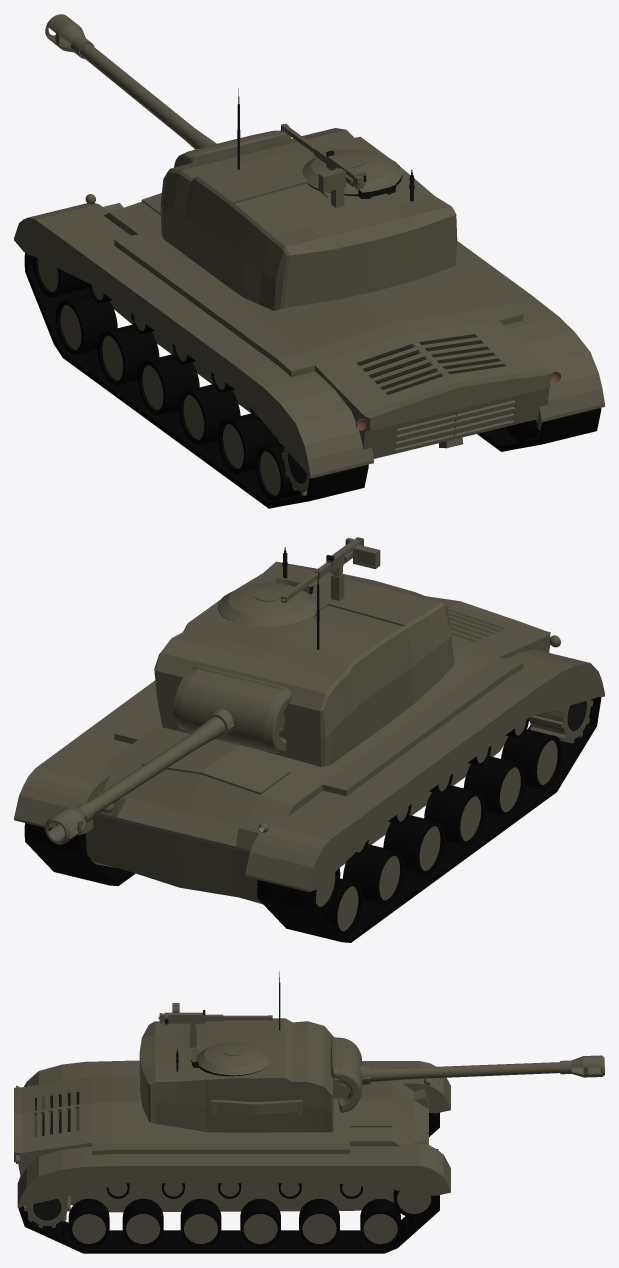
3 renders of one model, top to bottom at view 1: azimuth 30°, elevation 25°; view 2: azimuth 150°, elevation 25°; view 3: azimuth 270°, elevation 25°, orthographic. The views are drawn at different scales.
Parts seen in each view (by area): view 1: body_lower, body_upper, skirt, track, cannon, wheel_6, wheel_4, hatch, wheel_5, wheel_3, wheel_2, wheel_1 (+4 smaller); view 2: body_lower, body_upper, skirt, track, cannon_guard, cannon, hatch, wheel_5, wheel_3, wheel_4, wheel_2, wheel_1 (+4 smaller); view 3: body_lower, skirt, body_upper, track, cannon, hatch, cannon_guard, wheel_1, wheel_3, wheel_2, wheel_4, wheel_5 (+5 smaller).
Boxes of the visible parts, <box> form: body_lower: <box>103,193,550,458</box>; body_upper: <box>160,128,457,310</box>; skirt: <box>14,203,604,478</box>; track: <box>24,253,601,508</box>; cannon: <box>45,14,216,149</box>; wheel_6: <box>55,294,117,354</box>; wheel_4: <box>138,354,199,414</box>; hatch: <box>302,149,402,199</box>; wheel_5: <box>97,324,159,385</box>; wheel_3: <box>178,384,240,444</box>; wheel_2: <box>218,413,279,473</box>; wheel_1: <box>255,420,540,500</box>; body_lower: <box>85,596,550,904</box>; body_upper: <box>154,561,453,766</box>; skirt: <box>14,649,604,891</box>; track: <box>24,697,601,942</box>; cannon_guard: <box>173,666,291,752</box>; cannon: <box>45,708,234,844</box>; hatch: <box>217,577,319,626</box>; wheel_5: <box>343,844,404,905</box>; wheel_3: <box>424,785,485,846</box>; wheel_4: <box>383,815,445,875</box>; wheel_2: <box>463,756,525,817</box>; wheel_1: <box>501,729,562,790</box>; body_lower: <box>14,1067,428,1212</box>; skirt: <box>17,1060,450,1207</box>; body_upper: <box>139,1018,350,1132</box>; track: <box>18,1112,439,1253</box>; cannon: <box>360,1055,604,1084</box>; hatch: <box>191,1042,270,1076</box>; cannon_guard: <box>330,1036,362,1112</box>; wheel_1: <box>68,1198,109,1247</box>; wheel_3: <box>180,1198,221,1247</box>; wheel_2: <box>122,1198,163,1247</box>; wheel_4: <box>240,1198,280,1247</box>; wheel_5: <box>299,1198,339,1247</box>.
Size of the model in its own units: 1.81 by 1.74 by 4.31.
